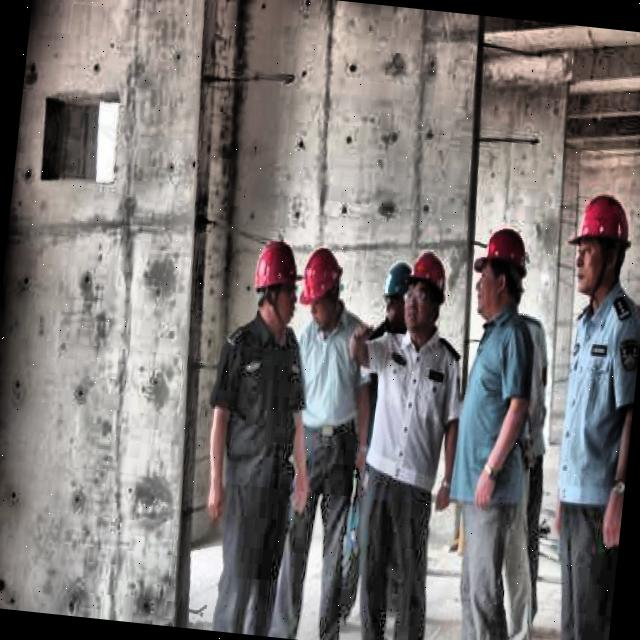helmet: (566, 188, 636, 302), (468, 223, 532, 321), (246, 235, 306, 338), (400, 241, 454, 336), (295, 244, 347, 327), (377, 258, 412, 332)
